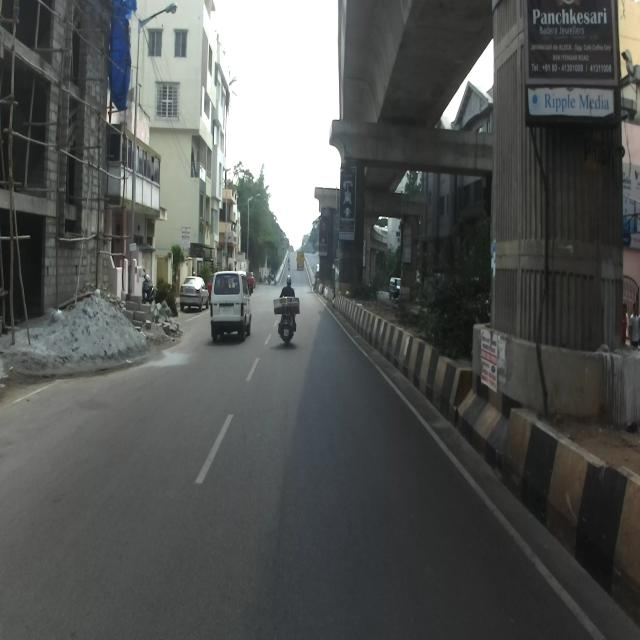car ahead at: (210, 269, 254, 344)
